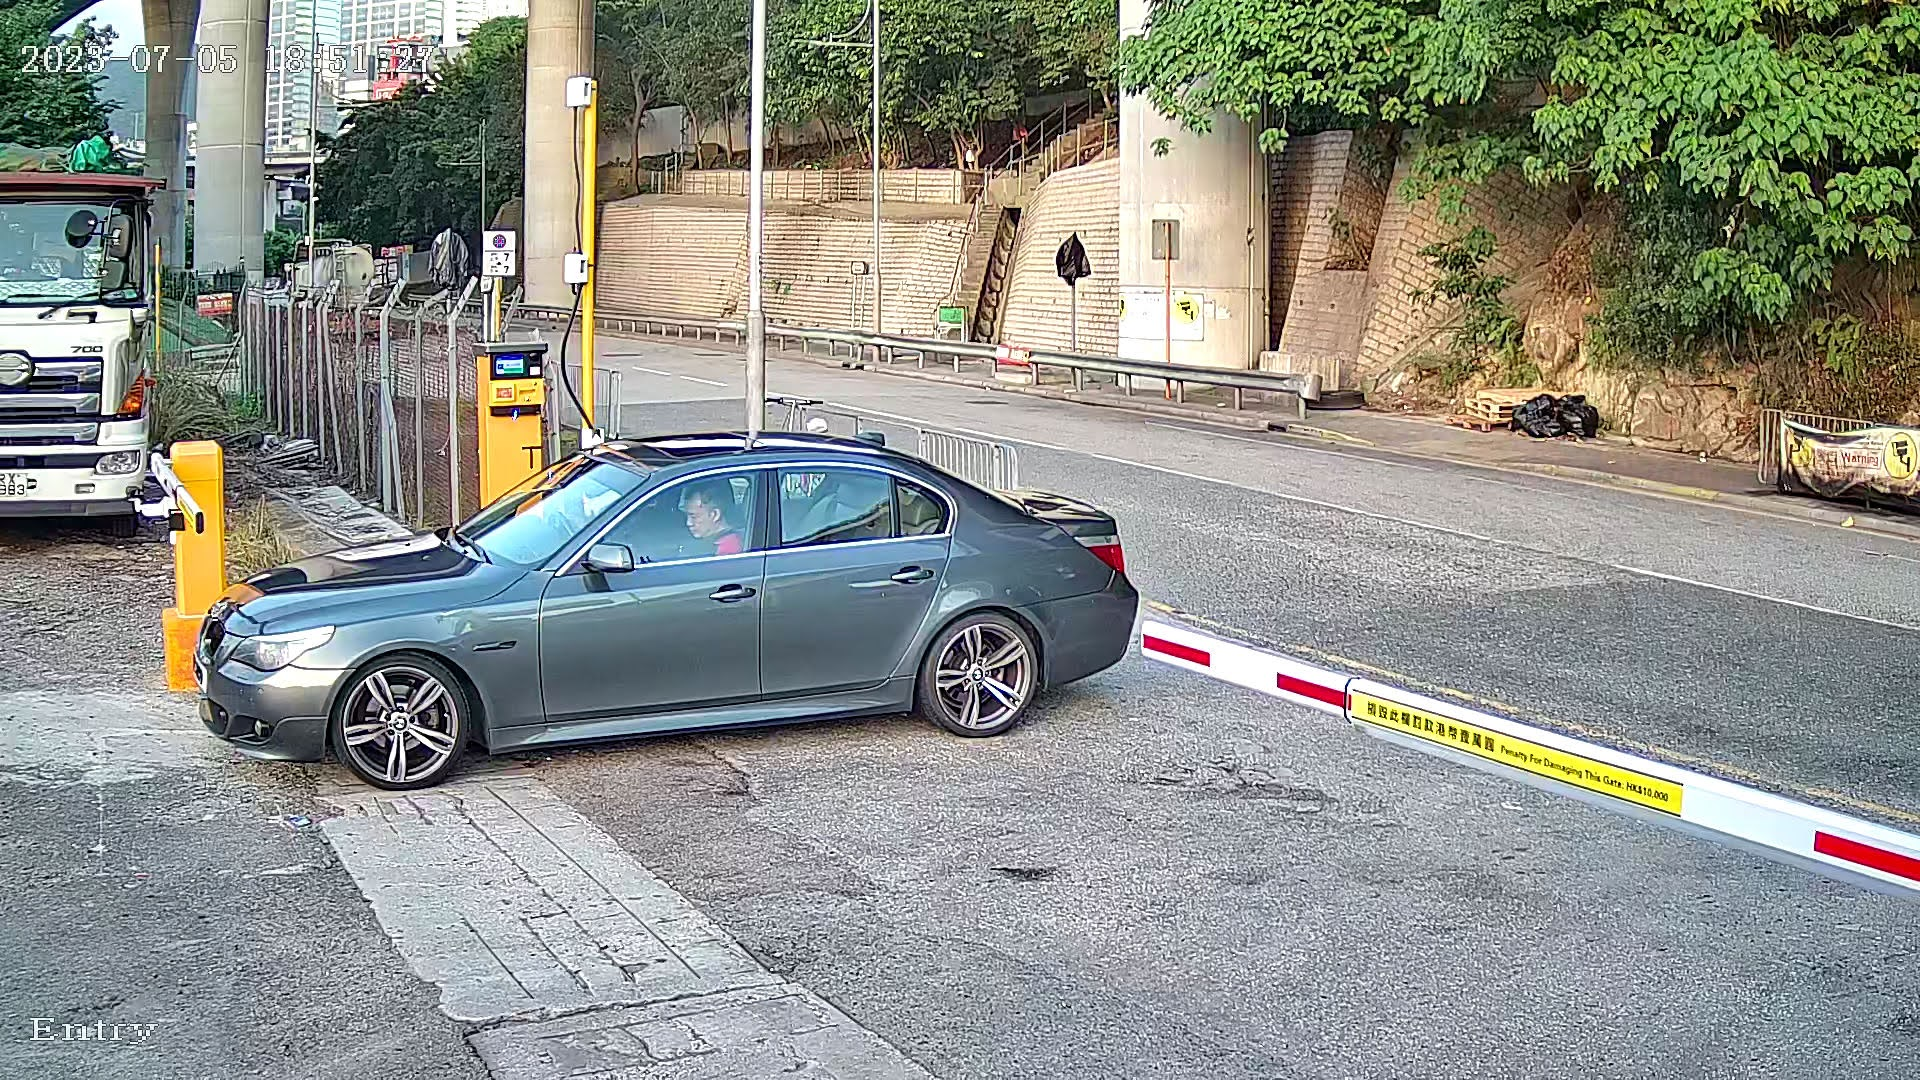privatecar: (174, 364, 1145, 810)
